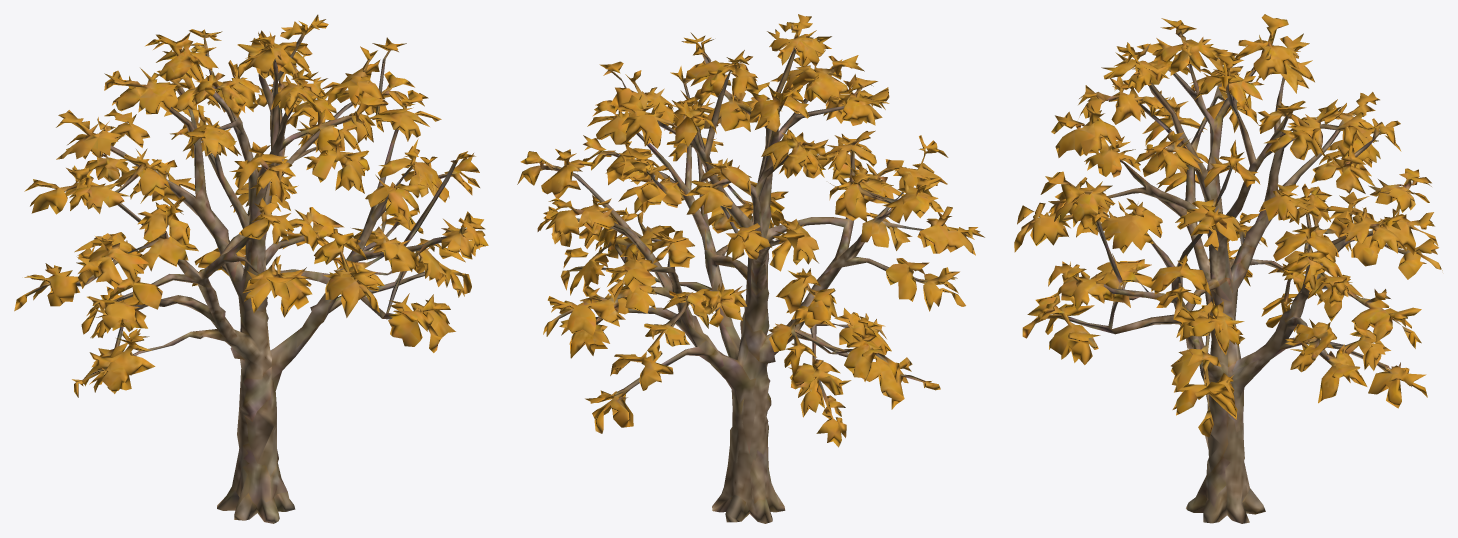
3 views of the same model, side by side, from view 1: azimuth 30°, elevation 25°; view 2: azimuth 150°, elevation 25°; view 3: azimuth 270°, elevation 25° (orthographic). The views are drawn at different scales.
Parts seen in each view (by area): view 1: tripo_node_a345c11d-c4cb-4634-b0ec-16655192c0fa; view 2: tripo_node_a345c11d-c4cb-4634-b0ec-16655192c0fa; view 3: tripo_node_a345c11d-c4cb-4634-b0ec-16655192c0fa.
Part boxes in pixels (box(x1,y1,x2,y2)): tripo_node_a345c11d-c4cb-4634-b0ec-16655192c0fa: box(14, 14, 488, 523); tripo_node_a345c11d-c4cb-4634-b0ec-16655192c0fa: box(517, 14, 984, 523); tripo_node_a345c11d-c4cb-4634-b0ec-16655192c0fa: box(1014, 14, 1442, 523).
Bounding box in the file's own units: 0.9094 × 1 × 0.8328.
1 material, 1 textured.
